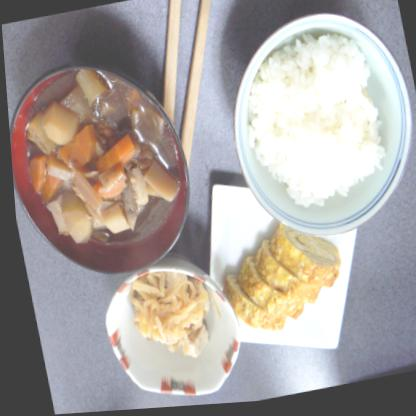rice ball: (220, 19, 401, 230)
